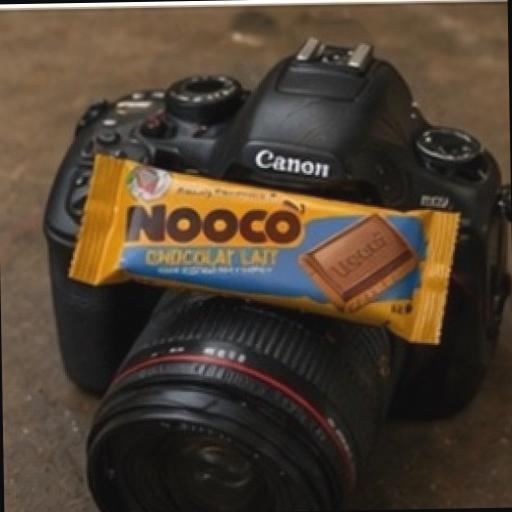nooco: (54, 117, 464, 376)
